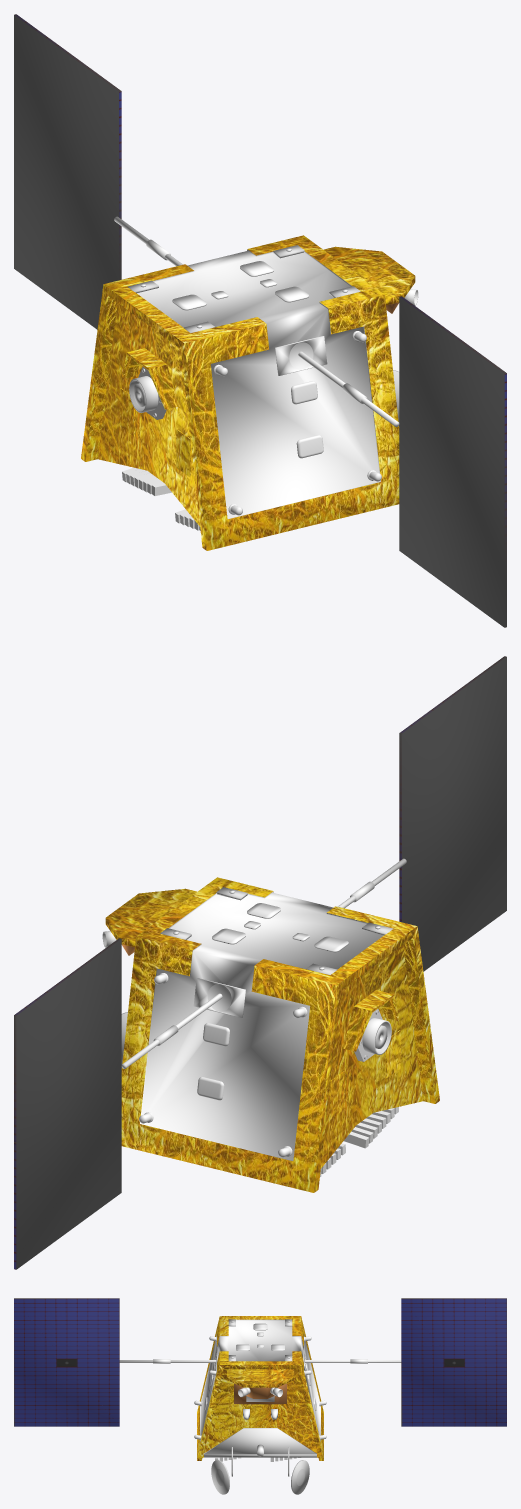
Rendered from oneweb.glb.
3 views of the same model, one above another, from view 1: azimuth 30°, elevation 25°; view 2: azimuth 150°, elevation 25°; view 3: azimuth 270°, elevation 25° (orthographic). The views are drawn at different scales.
Visible parts, largest first — view 1: OneWeb foil layer, OneWeb structure, Plane.000, Plane.001, Cylinder.001, Cube.002; view 2: OneWeb foil layer, OneWeb structure, Plane.001, Plane.000, Cube.001, Cylinder; view 3: Plane.000, Plane.001, OneWeb foil layer, OneWeb structure, Plane.002, Cube, Cylinder, Cylinder.001, OneWeb startracker box.
Boxes of the visible parts, x1=… form: OneWeb foil layer: x1=81, y1=235, x2=415, y2=550; OneWeb structure: x1=127, y1=245, x2=418, y2=519; Plane.000: x1=399, y1=296, x2=506, y2=627; Plane.001: x1=14, y1=14, x2=121, y2=329; Cylinder.001: x1=298, y1=351, x2=399, y2=426; Cube.002: x1=122, y1=467, x2=171, y2=495; OneWeb foil layer: x1=105, y1=877, x2=439, y2=1192; OneWeb structure: x1=102, y1=887, x2=393, y2=1161; Plane.001: x1=14, y1=938, x2=121, y2=1269; Plane.000: x1=399, y1=656, x2=506, y2=971; Cube.001: x1=344, y1=1107, x2=398, y2=1148; Cylinder: x1=121, y1=993, x2=222, y2=1068; Plane.000: x1=14, y1=1298, x2=119, y2=1426; Plane.001: x1=401, y1=1298, x2=506, y2=1426; OneWeb foil layer: x1=197, y1=1316, x2=323, y2=1460; OneWeb structure: x1=194, y1=1319, x2=326, y2=1457; Plane.002: x1=211, y1=1447, x2=309, y2=1494; Cube: x1=234, y1=1383, x2=286, y2=1404; Cylinder: x1=304, y1=1359, x2=401, y2=1363; Cylinder.001: x1=119, y1=1359, x2=216, y2=1363; OneWeb startracker box: x1=243, y1=1387, x2=277, y2=1398.
Bounding box in the file's own units: 13.06 × 12.28 × 35.48.
Materials: 9 (2 with a texture image).
